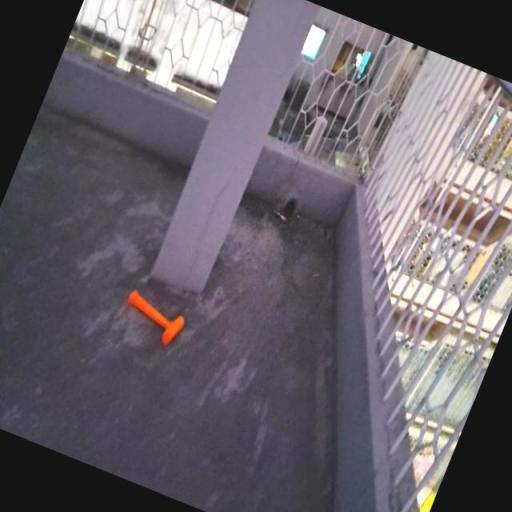mallet: (117, 288, 187, 347)
